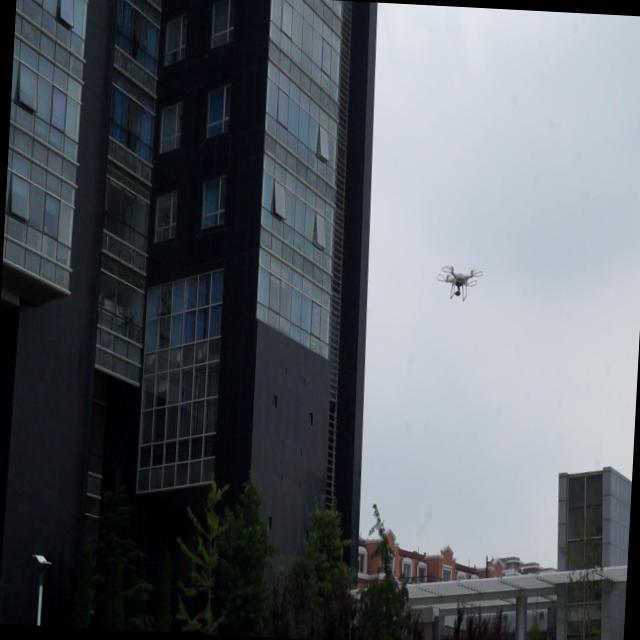drone: (434, 262, 484, 302)
